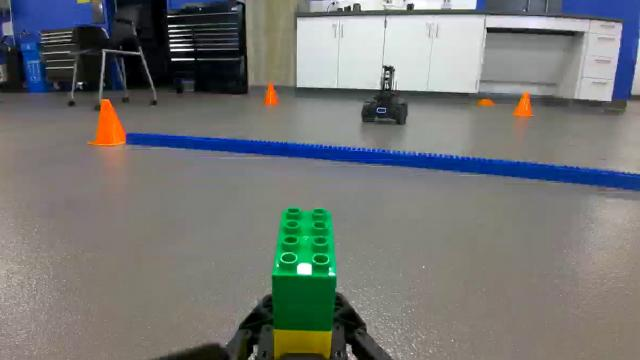robot: (360, 63, 408, 127)
